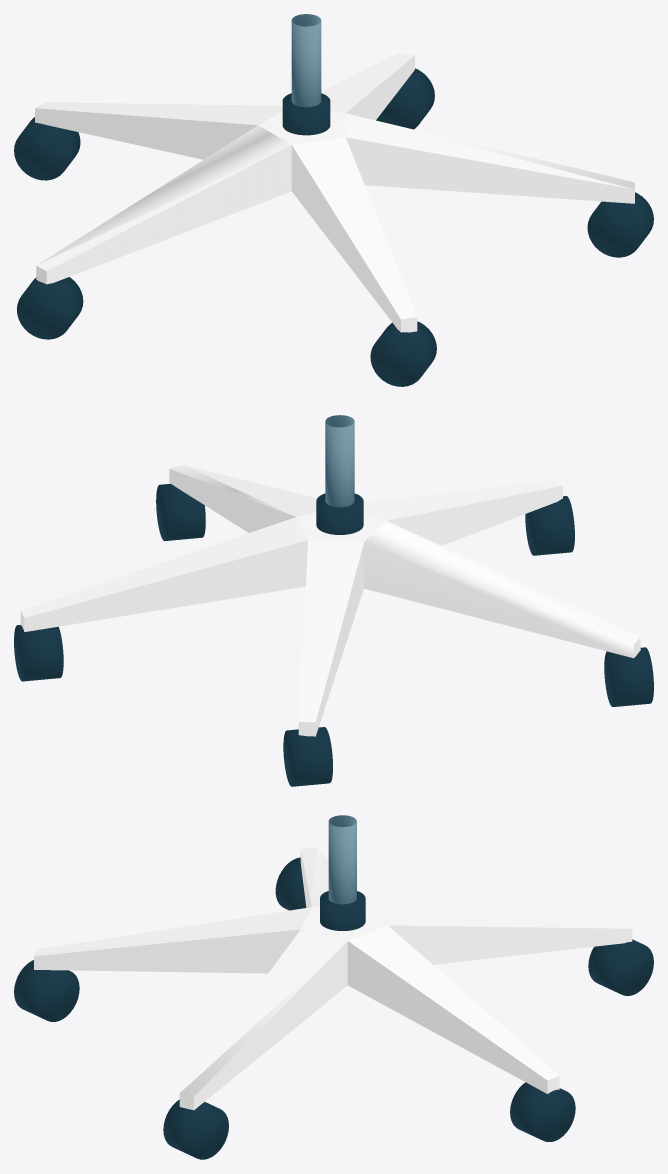
File: chair3.glb
3 renders of one model, top to bottom at view 1: azimuth 30°, elevation 25°; view 2: azimuth 150°, elevation 25°; view 3: azimuth 270°, elevation 25°, orthographic. The views are drawn at different scales.
Visible parts, largest first — view 1: chair bottom; view 2: chair bottom; view 3: chair bottom.
Boxes of the visible parts, left/top/right/bottom form: chair bottom: left=14, top=14, right=653, bottom=386; chair bottom: left=14, top=415, right=653, bottom=786; chair bottom: left=14, top=815, right=653, bottom=1159.
Size of what is drawn, in the model's own units: 0.767 by 0.2969 by 0.78.
3 materials, 2 textured.
